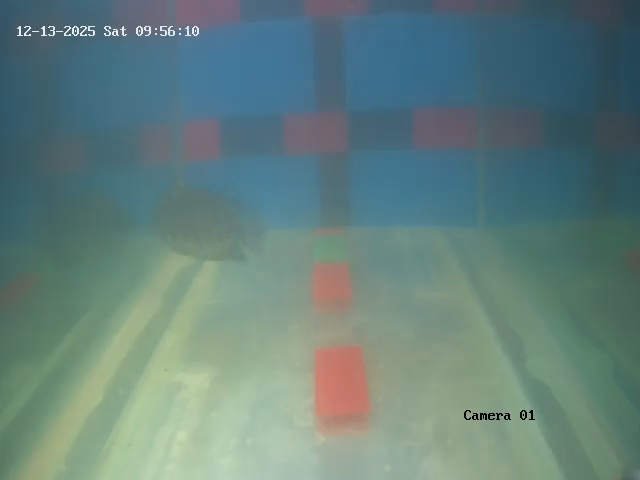fish: (141, 178, 274, 273)
